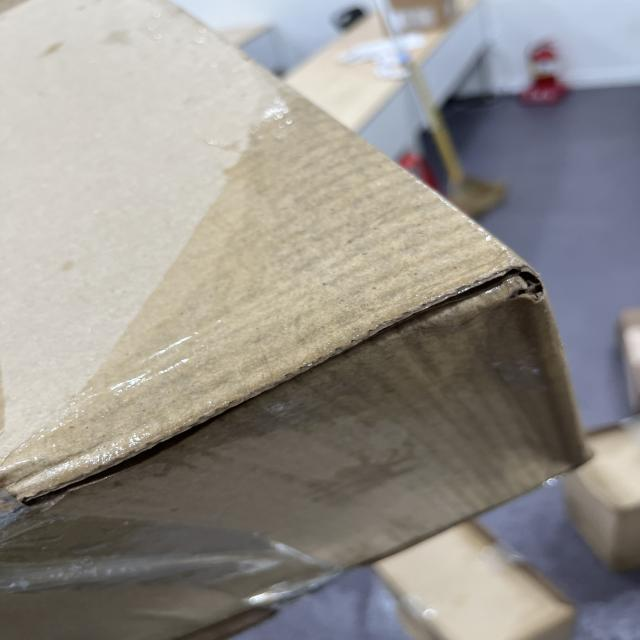wet: (84, 100, 609, 516)
